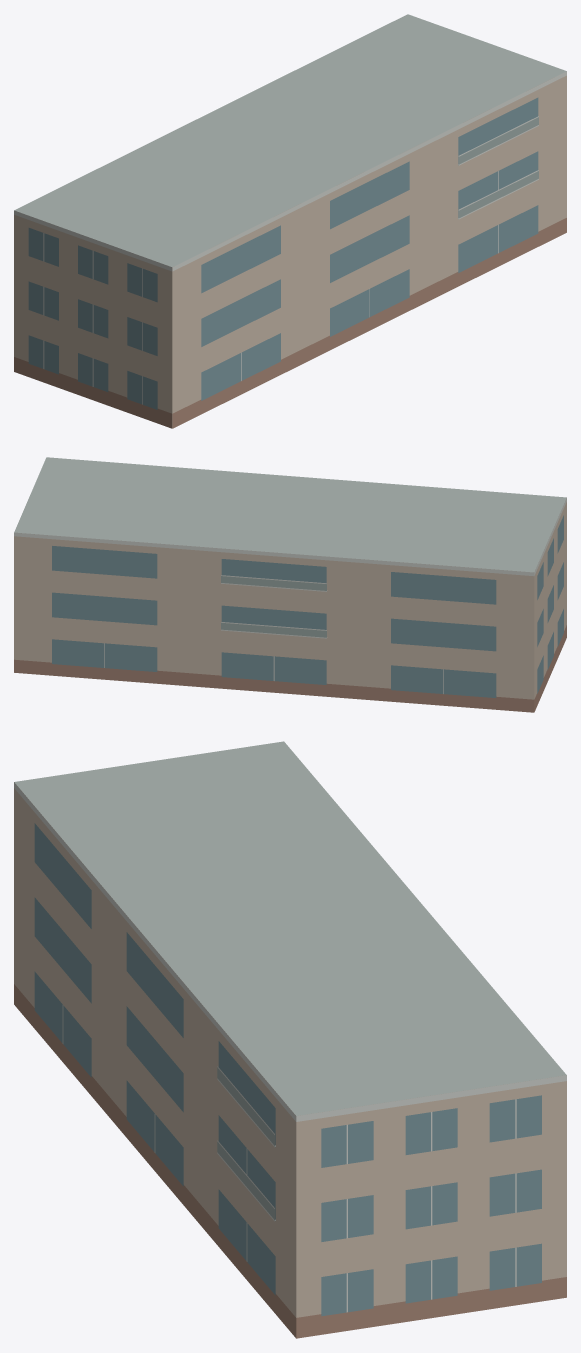
File: survey-upis-32864032.glb
The picture shows the model from 3 angles, top to bottom: view 1: azimuth 30°, elevation 25°; view 2: azimuth 150°, elevation 25°; view 3: azimuth 270°, elevation 25°; orthographic projection. The views are drawn at different scales.
Parts seen in each view (by area): view 1: survey-upis-32864032.tmp; view 2: survey-upis-32864032.tmp; view 3: survey-upis-32864032.tmp.
Boxes of the visible parts, left/top/right/bottom form: survey-upis-32864032.tmp: left=14, top=14, right=566, bottom=428; survey-upis-32864032.tmp: left=14, top=457, right=566, bottom=712; survey-upis-32864032.tmp: left=14, top=741, right=566, bottom=1338.
Size of the model in its own units: 33.06 by 9.15 by 20.61.
